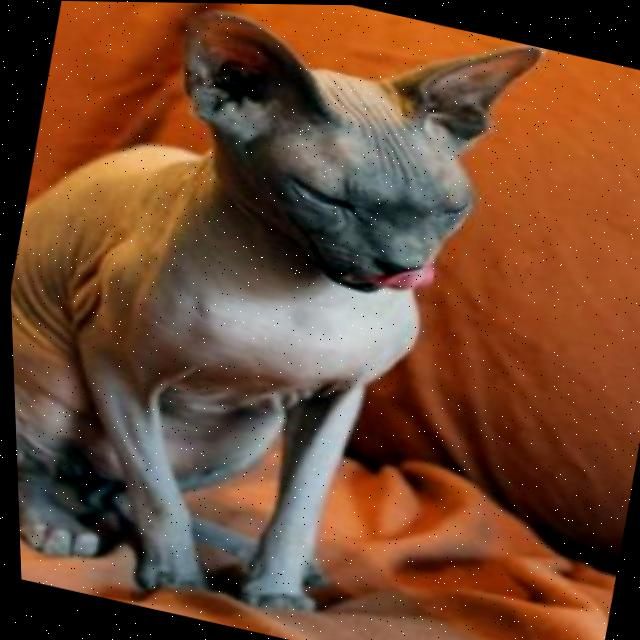Sphynx: (0, 0, 568, 640)
